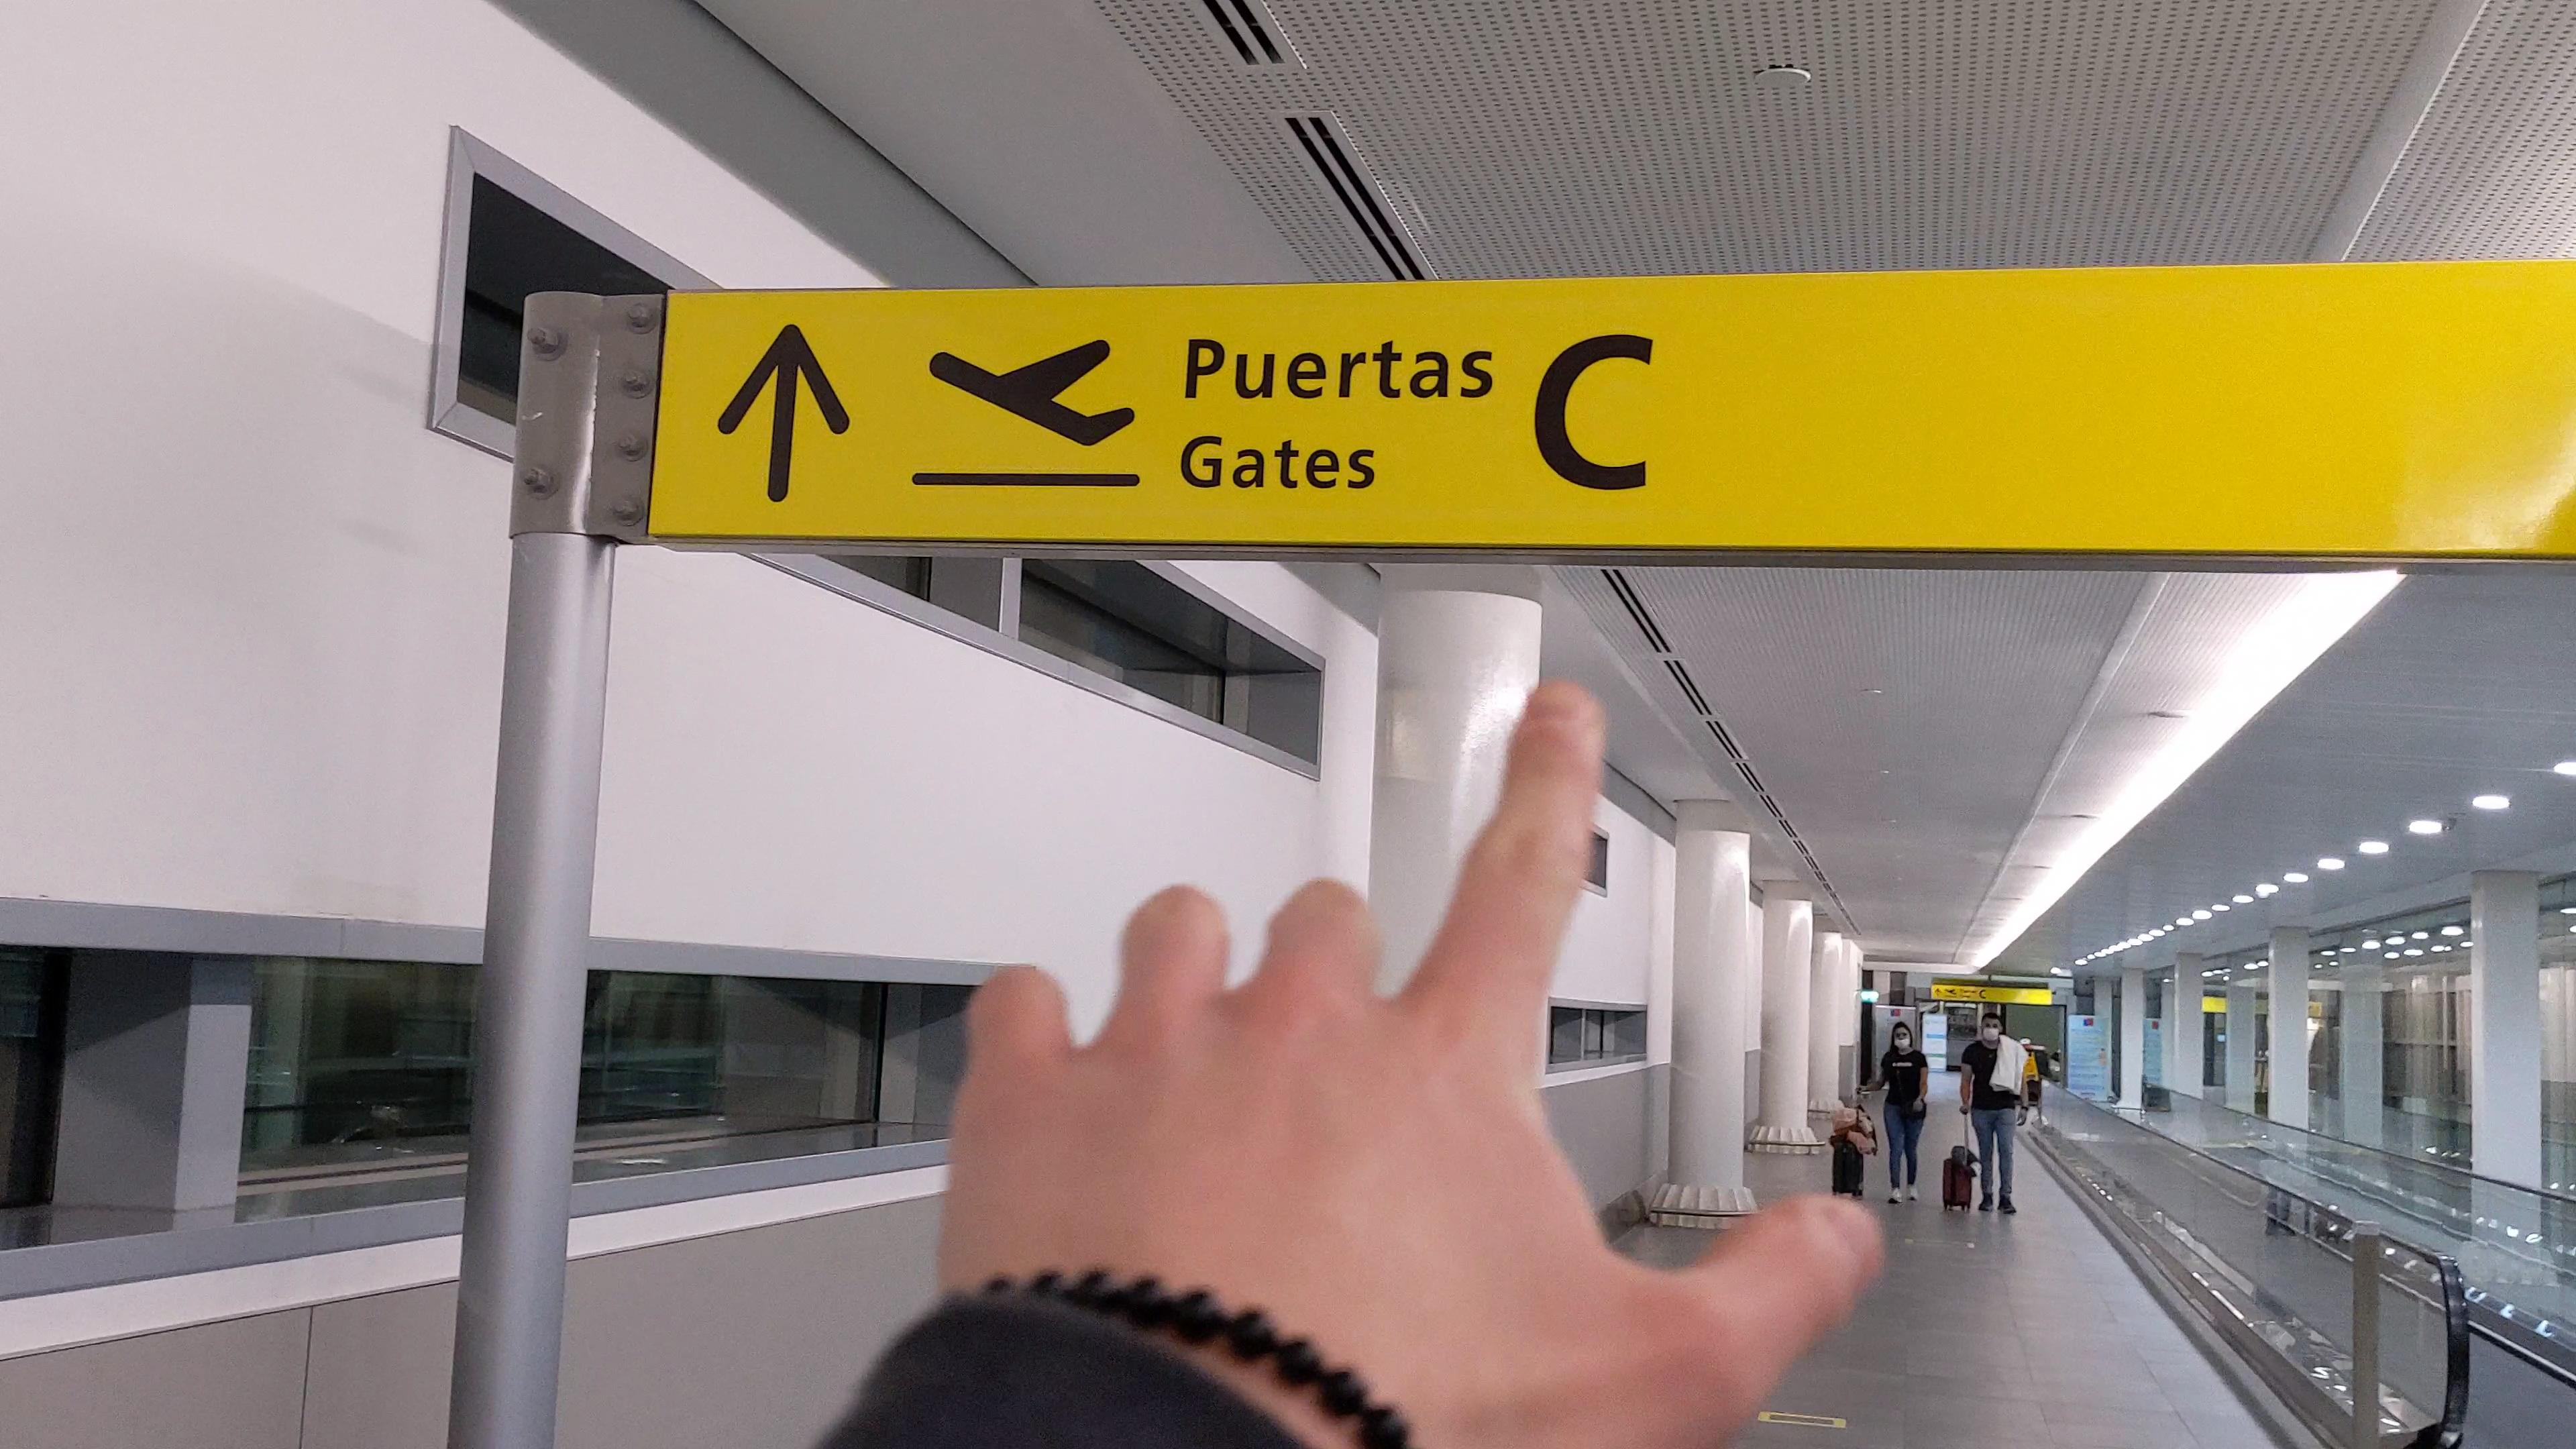airplane symbol: (924, 327, 1139, 456)
thin up arrow: (715, 313, 860, 511)
